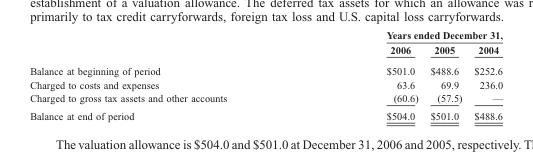table: (29, 29, 502, 120)
table column: (29, 29, 306, 120), (306, 29, 423, 120), (423, 29, 467, 120), (467, 29, 502, 120)
table column header: (29, 29, 502, 60)
table row: (29, 42, 502, 60), (29, 60, 502, 77), (29, 90, 502, 106), (29, 106, 502, 120), (29, 29, 502, 42), (29, 77, 502, 90)
table spanning cell: (306, 29, 502, 42)
